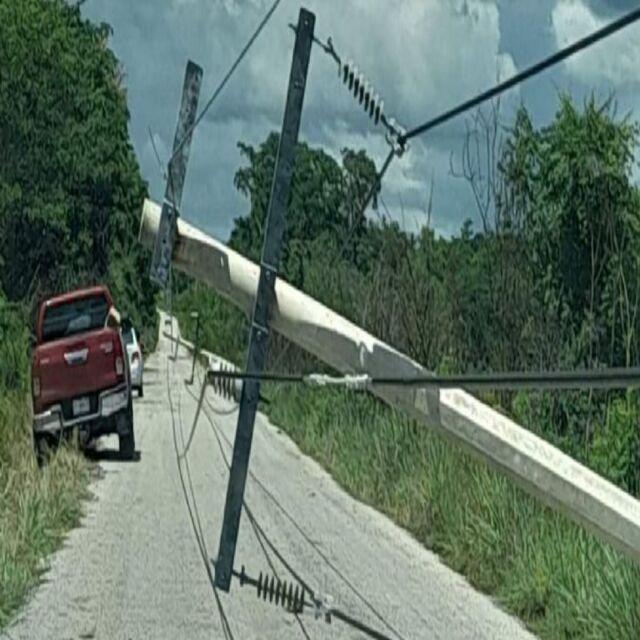Inclined Pole: (128, 8, 640, 640)
